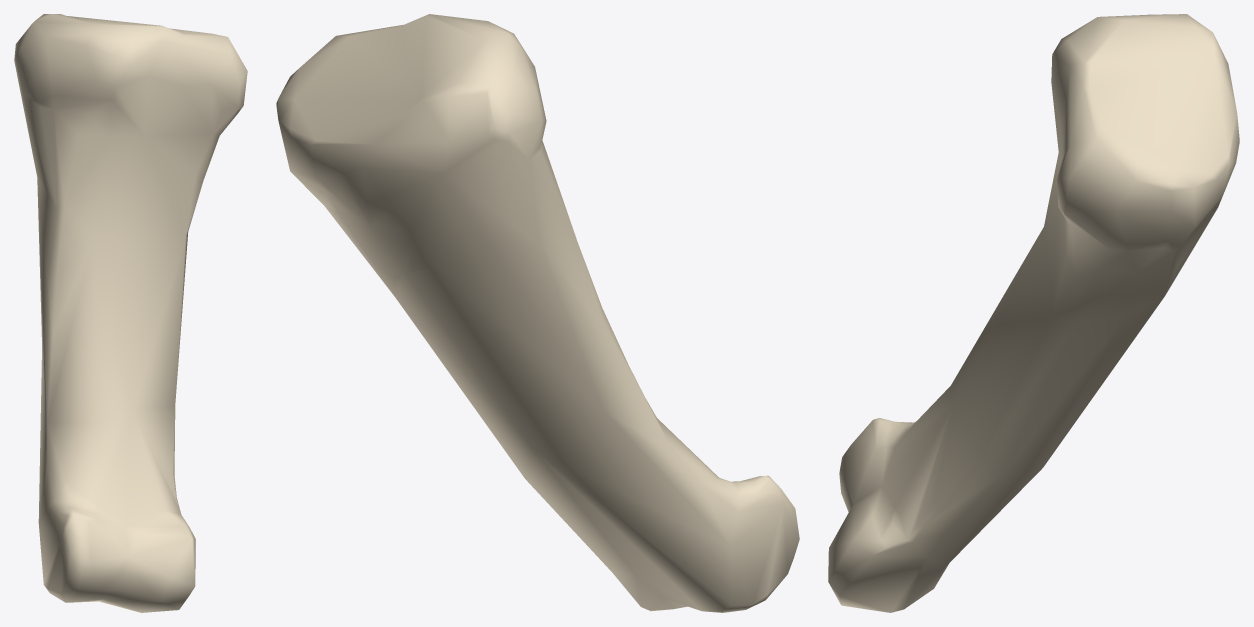
Rendered from proximal-phalanx-of-second-finger-of-hand-r.glb.
The picture shows the model from 3 angles, left to right: view 1: azimuth 30°, elevation 25°; view 2: azimuth 150°, elevation 25°; view 3: azimuth 270°, elevation 25°; orthographic projection. The views are drawn at different scales.
Visible parts, largest first — view 1: Proximal phalanx of second finger of hand.r; view 2: Proximal phalanx of second finger of hand.r; view 3: Proximal phalanx of second finger of hand.r.
Boxes of the visible parts, x1,y1,x2,y2 form: Proximal phalanx of second finger of hand.r: (14,14,247,612); Proximal phalanx of second finger of hand.r: (276,14,799,612); Proximal phalanx of second finger of hand.r: (828,14,1239,612).
Bounding box in the file's own units: 0.0227 × 0.0389 × 0.0237.
